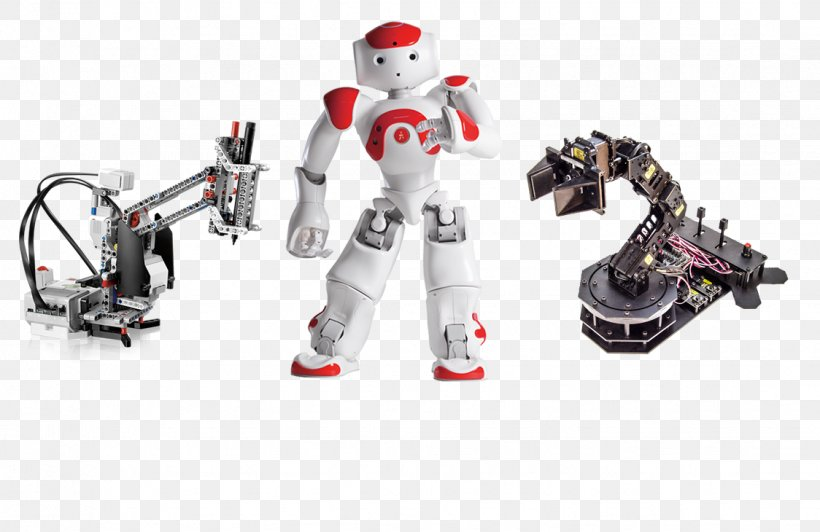nao: (271, 10, 524, 397)
